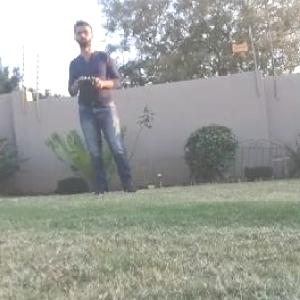follow: (65, 12, 145, 202)
